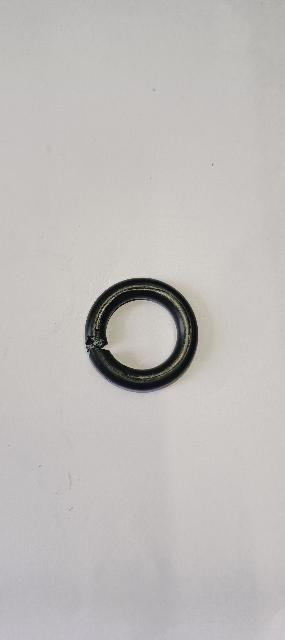crack: (76, 330, 116, 360)
scratch: (94, 285, 191, 382)
